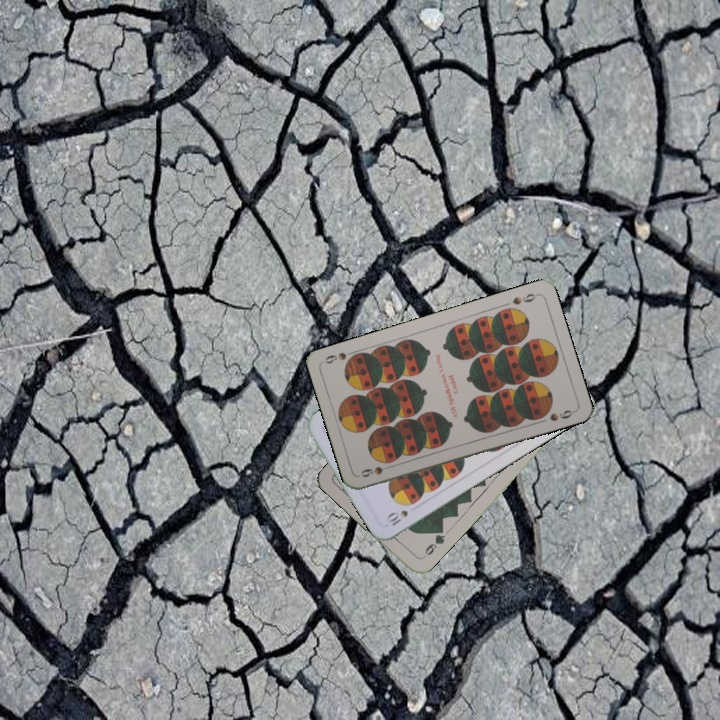G9: (418, 526, 448, 562)
S10: (384, 506, 411, 528)
S9: (356, 461, 396, 480), (508, 289, 540, 307)
